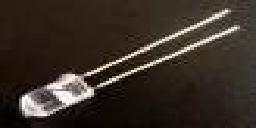LED: (15, 57, 120, 126)
